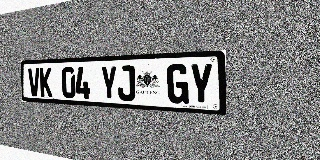0: (61, 67, 76, 98)
4: (75, 66, 90, 99)
G: (167, 64, 189, 104)
J: (117, 65, 135, 101)
K: (39, 68, 52, 97)
V: (28, 68, 40, 97)
Y: (189, 63, 213, 105), (100, 66, 117, 101)
